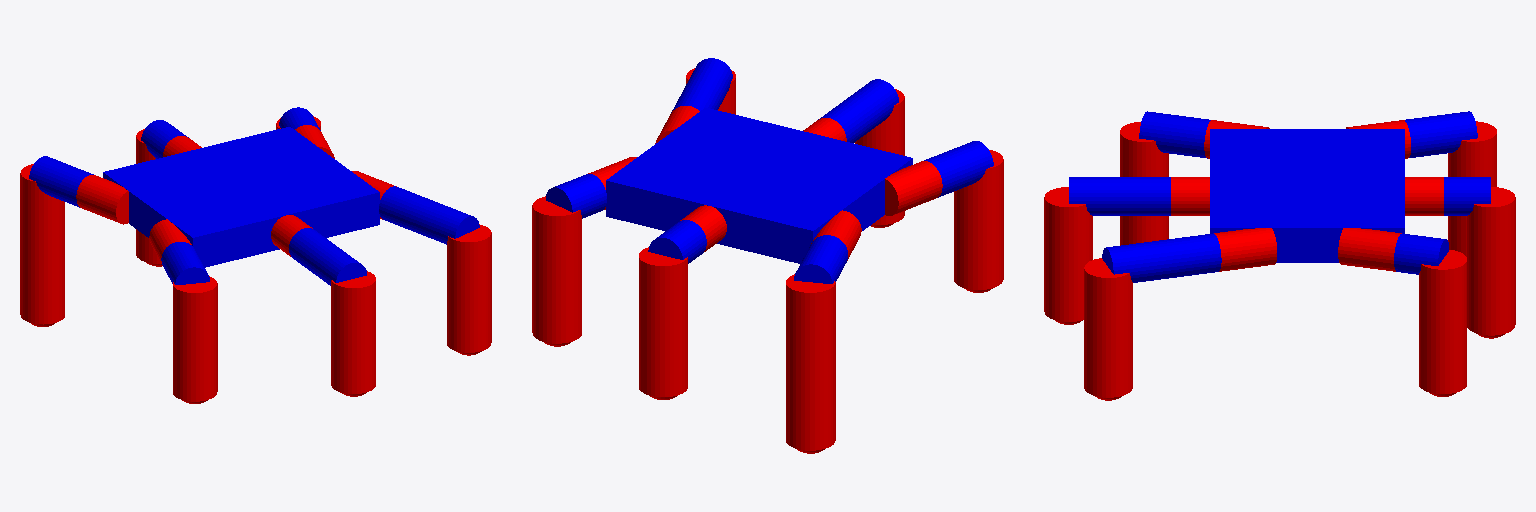
--- Render facts (derived) ---
Views: 3 orthographic renders of the robot side by side, from view 1: azimuth 30°, elevation 25°; view 2: azimuth 150°, elevation 25°; view 3: azimuth 270°, elevation 25°.
Robot: pexod — 19 links, 18 joints (18 revolute); root link base_link; default pose: all joints at 0.
Links seen in each view (by area): view 1: base_link, leg_0_3, leg_3_3, leg_5_3, leg_4_3, leg_3_2, leg_4_2, leg_0_1, leg_0_2, leg_5_2, leg_1_2, leg_1_3 (+3 smaller); view 2: base_link, leg_0_3, leg_1_3, leg_2_3, leg_5_3, leg_4_2, leg_5_1, leg_5_2, leg_3_2, leg_0_2, leg_2_2, leg_4_3 (+5 smaller); view 3: base_link, leg_1_3, leg_2_3, leg_3_3, leg_4_3, leg_3_2, leg_4_2, leg_5_3, leg_0_3, leg_0_2, leg_5_2, leg_2_1 (+5 smaller).
Link boxes in pixels (x1,y1,x2,y2): base_link: (103, 127, 379, 267); leg_0_3: (20, 164, 64, 326); leg_3_3: (447, 224, 491, 355); leg_5_3: (173, 276, 217, 403); leg_4_3: (331, 271, 375, 396); leg_3_2: (379, 186, 479, 244); leg_4_2: (289, 228, 366, 285); leg_0_1: (76, 175, 128, 224); leg_0_2: (29, 156, 93, 207); leg_5_2: (161, 242, 209, 284); leg_1_2: (141, 120, 188, 158); leg_1_3: (136, 129, 162, 266); base_link: (606, 108, 912, 263); leg_0_3: (786, 274, 835, 453); leg_1_3: (639, 247, 687, 399); leg_2_3: (532, 196, 581, 346); leg_5_3: (954, 150, 1003, 292); leg_4_2: (818, 79, 898, 142); leg_5_1: (885, 161, 942, 215); leg_5_2: (924, 141, 993, 197); leg_3_2: (671, 58, 732, 112); leg_0_2: (794, 235, 847, 283); leg_2_2: (546, 174, 606, 218); leg_4_3: (855, 89, 904, 227); base_link: (1210, 129, 1404, 262); leg_1_3: (1467, 187, 1515, 338); leg_2_3: (1419, 250, 1466, 396); leg_3_3: (1084, 258, 1132, 400); leg_4_3: (1044, 187, 1092, 324); leg_3_2: (1102, 233, 1221, 282); leg_4_2: (1069, 177, 1170, 215); leg_5_3: (1120, 122, 1168, 245); leg_0_3: (1448, 121, 1496, 256); leg_0_2: (1405, 111, 1477, 157); leg_5_2: (1139, 111, 1210, 158); leg_2_1: (1338, 228, 1401, 271).
Size in the robot's own frame: 0.3806 by 0.4832 by 0.207 metres.
Geometry: primitives only (box / cylinder / sphere), no mesh files.

robot.urdf — pexod:
<?xml version="1.0" ?>
<!-- =================================================================================== -->
<!-- |    This document was autogenerated by xacro from pexod.xacro                    | -->
<!-- |    EDITING THIS FILE BY HAND IS NOT RECOMMENDED                                 | -->
<!-- =================================================================================== -->
<robot name="pexod" xmlns:xacro="http://www.ros.org/wiki/xacro">
  <!-- <xacro:include filename="$(find pexod_description)/urdf/pexod_control.xacro" /> -->
  <!-- MATERIALS -->
  <material name="Blue">
    <color rgba="0 0 1 1"/>
  </material>
  <material name="Red">
    <color rgba="1 0 0 1"/>
  </material>
  <material name="Green">
    <color rgba="0 1 0 1"/>
  </material>
  <material name="Yellow">
    <color rgba="1 1 0 1"/>
  </material>
  <material name="LightGrey">
    <color rgba="0.6 0.6 0.6 1.0"/>
  </material>
  <!-- END OF MATERIALS -->
  <!-- XACRO MACROS FOR VISUALS AND COLLISIONS -->
  <!-- END OF XACRO MACROS -->
  <!-- TORSO -->
  <link name="base_link">
    <visual>
      <origin rpy="0 0 0" xyz="0 0 0"/>
      <geometry>
        <box size="0.24 0.2 0.04"/>
      </geometry>
      <material name="Blue"/>
    </visual>
    <collision>
      <origin rpy="0 0 0" xyz="0 0 0"/>
      <geometry>
        <box size="0.24 0.2 0.04"/>
      </geometry>
    </collision>
    <inertial>
      <!-- CENTER OF MASS -->
      <origin rpy="0 0 0" xyz="0 0 0"/>
      <mass value="1.031"/>
      <!-- box inertia: 1/12*m(y^2+z^2), ... -->
      <inertia ixx="0.00357413333333" ixy="0" ixz="0" iyy="0.00508626666667" iyz="0" izz="0.00838546666667"/>
    </inertial>
  </link>
  <!-- XACRO MACRO FOR LEGS LINKS/JOINTS -->
  <!-- END OF LEG LINKS/JOINTS -->
  <joint name="body_leg_2" type="revolute">
    <parent link="base_link"/>
    <child link="leg_2_1"/>
    <limit effort="30.0" lower="-1.57079632679" upper="1.57079632679" velocity="7.0"/>
    <origin rpy="0 0 -0.3" xyz="0.11 0.04 0"/>
    <!-- <xacro:if value="${index == 5 or index == 4 or index == 3}">
                <axis xyz="0 0 1"/>
            </xacro:if>
            <xacro:if value="${index == 2 or index == 1 or index == 0}"> -->
    <axis xyz="0 0 1"/>
    <!-- </xacro:if> -->
    <dynamics damping="0.0"/>
  </joint>
  <link name="leg_2_1">
    <visual>
      <origin rpy="1.57079632679 0 0" xyz="0.01 0.03 0"/>
      <geometry>
        <cylinder length="0.06" radius="0.02"/>
      </geometry>
      <material name="Red"/>
    </visual>
    <collision>
      <origin rpy="1.57079632679 0 0" xyz="0.01 0.03 0"/>
      <geometry>
        <box size="0.02 0.02 0.06"/>
      </geometry>
    </collision>
    <inertial>
      <!-- CENTER OF MASS -->
      <origin rpy="1.57079632679 0 0" xyz="0.01 0.03 0"/>
      <mass value="0.02"/>
      <!-- box inertia: 1/12*m(y^2+z^2), ... -->
      <inertia ixx="6.66666666667e-06" ixy="0" ixz="0" iyy="6.66666666667e-06" iyz="0" izz="1.33333333333e-06"/>
    </inertial>
  </link>
  <joint name="leg_2_1_2" type="revolute">
    <parent link="leg_2_1"/>
    <child link="leg_2_2"/>
    <limit effort="30.0" lower="-0.78539816339" upper="0.78539816339" velocity="7.0"/>
    <origin rpy="0 0 0" xyz="0 0.06 0"/>
    <axis xyz="1 0 0"/>
    <dynamics damping="0.0"/>
  </joint>
  <link name="leg_2_2">
    <visual>
      <origin rpy="1.57079632679 0 0" xyz="0.01 0.0235877425869 0"/>
      <geometry>
        <cylinder length="0.0471754851738" radius="0.02"/>
      </geometry>
      <material name="Blue"/>
    </visual>
    <collision>
      <origin rpy="1.57079632679 0 0" xyz="0.01 0.0235877425869 0"/>
      <geometry>
        <box size="0.02 0.02 0.0471754851738"/>
      </geometry>
    </collision>
    <inertial>
      <!-- CENTER OF MASS -->
      <origin rpy="1.57079632679 0 0" xyz="0.01 0.0235877425869 0"/>
      <mass value="0.184"/>
      <!-- box inertia: 1/12*m(y^2+z^2), ... -->
      <inertia ixx="4.02580714879e-05" ixy="0" ixz="0" iyy="4.02580714879e-05" iyz="0" izz="1.22666666667e-05"/>
    </inertial>
  </link>
  <joint name="leg_2_2_3" type="revolute">
    <parent link="leg_2_2"/>
    <child link="leg_2_3"/>
    <limit effort="30.0" lower="-0.78539816339" upper="0.78539816339" velocity="7.0"/>
    <origin rpy="-1.57079632679 0 0" xyz="0 0.0471754851738 0"/>
    <axis xyz="-1 0 0"/>
    <dynamics damping="0.0"/>
  </joint>
  <link name="leg_2_3">
    <visual>
      <origin rpy="1.57079632679 0 0" xyz="0.0125 0.070470792549 0"/>
      <geometry>
        <cylinder length="0.140941585098" radius="0.025"/>
      </geometry>
      <material name="Red"/>
    </visual>
    <visual>
      <origin rpy="1.57079632679 0 0" xyz="0.0125 0.128441585098 0"/>
      <geometry>
        <sphere radius="0.025"/>
      </geometry>
      <material name="Red"/>
    </visual>
    <collision>
      <origin rpy="1.57079632679 0 0" xyz="0.0125 0.070470792549 0"/>
      <geometry>
        <box size="0.025 0.025 0.140941585098"/>
      </geometry>
    </collision>
    <collision>
      <origin rpy="1.57079632679 0 0" xyz="0.0125 0.128441585098 0"/>
      <geometry>
        <sphere radius="0.025"/>
      </geometry>
      <material name="Red"/>
    </collision>
    <inertial>
      <!-- CENTER OF MASS -->
      <origin rpy="1.57079632679 0 0" xyz="0.0125 0.070470792549 0"/>
      <mass value="0.04"/>
      <!-- box inertia: 1/12*m(y^2+z^2), ... -->
      <inertia ixx="6.82984346998e-05" ixy="0" ixz="0" iyy="6.82984346998e-05" iyz="0" izz="4.16666666667e-06"/>
    </inertial>
  </link>
  <joint name="body_leg_3" type="revolute">
    <parent link="base_link"/>
    <child link="leg_3_1"/>
    <limit effort="30.0" lower="-1.57079632679" upper="1.57079632679" velocity="7.0"/>
    <origin rpy="0 0 0.3" xyz="0.11 -0.04 0"/>
    <!-- <xacro:if value="${index == 5 or index == 4 or index == 3}">
                <axis xyz="0 0 1"/>
            </xacro:if>
            <xacro:if value="${index == 2 or index == 1 or index == 0}"> -->
    <axis xyz="0 0 1"/>
    <!-- </xacro:if> -->
    <dynamics damping="0.0"/>
  </joint>
  <link name="leg_3_1">
    <visual>
      <origin rpy="1.57079632679 0 0" xyz="0.01 -0.03 0"/>
      <geometry>
        <cylinder length="0.06" radius="0.02"/>
      </geometry>
      <material name="Red"/>
    </visual>
    <collision>
      <origin rpy="1.57079632679 0 0" xyz="0.01 -0.03 0"/>
      <geometry>
        <box size="0.02 0.02 0.06"/>
      </geometry>
    </collision>
    <inertial>
      <!-- CENTER OF MASS -->
      <origin rpy="1.57079632679 0 0" xyz="0.01 -0.03 0"/>
      <mass value="0.02"/>
      <!-- box inertia: 1/12*m(y^2+z^2), ... -->
      <inertia ixx="6.66666666667e-06" ixy="0" ixz="0" iyy="6.66666666667e-06" iyz="0" izz="1.33333333333e-06"/>
    </inertial>
  </link>
  <joint name="leg_3_1_2" type="revolute">
    <parent link="leg_3_1"/>
    <child link="leg_3_2"/>
    <limit effort="30.0" lower="-0.78539816339" upper="0.78539816339" velocity="7.0"/>
    <origin rpy="0 0 0" xyz="0 -0.06 0"/>
    <axis xyz="-1 0 0"/>
    <dynamics damping="0.0"/>
  </joint>
  <link name="leg_3_2">
    <visual>
      <origin rpy="1.57079632679 0 0" xyz="0.01 -0.057909137465 0"/>
      <geometry>
        <cylinder length="0.11581827493" radius="0.02"/>
      </geometry>
      <material name="Blue"/>
    </visual>
    <collision>
      <origin rpy="1.57079632679 0 0" xyz="0.01 -0.057909137465 0"/>
      <geometry>
        <box size="0.02 0.02 0.11581827493"/>
      </geometry>
    </collision>
    <inertial>
      <!-- CENTER OF MASS -->
      <origin rpy="1.57079632679 0 0" xyz="0.01 -0.057909137465 0"/>
      <mass value="0.184"/>
      <!-- box inertia: 1/12*m(y^2+z^2), ... -->
      <inertia ixx="0.000211812716386" ixy="0" ixz="0" iyy="0.000211812716386" iyz="0" izz="1.22666666667e-05"/>
    </inertial>
  </link>
  <joint name="leg_3_2_3" type="revolute">
    <parent link="leg_3_2"/>
    <child link="leg_3_3"/>
    <limit effort="30.0" lower="-0.78539816339" upper="0.78539816339" velocity="7.0"/>
    <origin rpy="1.57079632679 0 0" xyz="0 -0.11581827493 0"/>
    <axis xyz="1 0 0"/>
    <dynamics damping="0.0"/>
  </joint>
  <link name="leg_3_3">
    <visual>
      <origin rpy="1.57079632679 0 0" xyz="0.0125 -0.0677245151205 0"/>
      <geometry>
        <cylinder length="0.135449030241" radius="0.025"/>
      </geometry>
      <material name="Red"/>
    </visual>
    <visual>
      <origin rpy="1.57079632679 0 0" xyz="0.0125 -0.122949030241 0"/>
      <geometry>
        <sphere radius="0.025"/>
      </geometry>
      <material name="Red"/>
    </visual>
    <collision>
      <origin rpy="1.57079632679 0 0" xyz="0.0125 -0.0677245151205 0"/>
      <geometry>
        <box size="0.025 0.025 0.135449030241"/>
      </geometry>
    </collision>
    <collision>
      <origin rpy="1.57079632679 0 0" xyz="0.0125 -0.122949030241 0"/>
      <geometry>
        <sphere radius="0.025"/>
      </geometry>
      <material name="Red"/>
    </collision>
    <inertial>
      <!-- CENTER OF MASS -->
      <origin rpy="1.57079632679 0 0" xyz="0.0125 -0.0677245151205 0"/>
      <mass value="0.04"/>
      <!-- box inertia: 1/12*m(y^2+z^2), ... -->
      <inertia ixx="6.32381326441e-05" ixy="0" ixz="0" iyy="6.32381326441e-05" iyz="0" izz="4.16666666667e-06"/>
    </inertial>
  </link>
  <joint name="body_leg_0" type="revolute">
    <parent link="base_link"/>
    <child link="leg_0_1"/>
    <limit effort="30.0" lower="-1.57079632679" upper="1.57079632679" velocity="7.0"/>
    <origin rpy="0 0 0.3" xyz="-0.13 0.04 0"/>
    <!-- <xacro:if value="${index == 5 or index == 4 or index == 3}">
                <axis xyz="0 0 1"/>
            </xacro:if>
            <xacro:if value="${index == 2 or index == 1 or index == 0}"> -->
    <axis xyz="0 0 1"/>
    <!-- </xacro:if> -->
    <dynamics damping="0.0"/>
  </joint>
  <link name="leg_0_1">
    <visual>
      <origin rpy="1.57079632679 0 0" xyz="0.01 0.03 0"/>
      <geometry>
        <cylinder length="0.06" radius="0.02"/>
      </geometry>
      <material name="Red"/>
    </visual>
    <collision>
      <origin rpy="1.57079632679 0 0" xyz="0.01 0.03 0"/>
      <geometry>
        <box size="0.02 0.02 0.06"/>
      </geometry>
    </collision>
    <inertial>
      <!-- CENTER OF MASS -->
      <origin rpy="1.57079632679 0 0" xyz="0.01 0.03 0"/>
      <mass value="0.02"/>
      <!-- box inertia: 1/12*m(y^2+z^2), ... -->
      <inertia ixx="6.66666666667e-06" ixy="0" ixz="0" iyy="6.66666666667e-06" iyz="0" izz="1.33333333333e-06"/>
    </inertial>
  </link>
  <joint name="leg_0_1_2" type="revolute">
    <parent link="leg_0_1"/>
    <child link="leg_0_2"/>
    <limit effort="30.0" lower="-0.78539816339" upper="0.78539816339" velocity="7.0"/>
    <origin rpy="0 0 0" xyz="0 0.06 0"/>
    <axis xyz="1 0 0"/>
    <dynamics damping="0.0"/>
  </joint>
  <link name="leg_0_2">
    <visual>
      <origin rpy="1.57079632679 0 0" xyz="0.01 0.0356929033093 0"/>
      <geometry>
        <cylinder length="0.0713858066186" radius="0.02"/>
      </geometry>
      <material name="Blue"/>
    </visual>
    <collision>
      <origin rpy="1.57079632679 0 0" xyz="0.01 0.0356929033093 0"/>
      <geometry>
        <box size="0.02 0.02 0.0713858066186"/>
      </geometry>
    </collision>
    <inertial>
      <!-- CENTER OF MASS -->
      <origin rpy="1.57079632679 0 0" xyz="0.01 0.0356929033093 0"/>
      <mass value="0.184"/>
      <!-- box inertia: 1/12*m(y^2+z^2), ... -->
      <inertia ixx="8.42709785944e-05" ixy="0" ixz="0" iyy="8.42709785944e-05" iyz="0" izz="1.22666666667e-05"/>
    </inertial>
  </link>
  <joint name="leg_0_2_3" type="revolute">
    <parent link="leg_0_2"/>
    <child link="leg_0_3"/>
    <limit effort="30.0" lower="-0.78539816339" upper="0.78539816339" velocity="7.0"/>
    <origin rpy="-1.57079632679 0 0" xyz="0 0.0713858066186 0"/>
    <axis xyz="-1 0 0"/>
    <dynamics damping="0.0"/>
  </joint>
  <link name="leg_0_3">
    <visual>
      <origin rpy="1.57079632679 0 0" xyz="0.0125 0.0872538673915 0"/>
      <geometry>
        <cylinder length="0.174507734783" radius="0.025"/>
      </geometry>
      <material name="Red"/>
    </visual>
    <visual>
      <origin rpy="1.57079632679 0 0" xyz="0.0125 0.162007734783 0"/>
      <geometry>
        <sphere radius="0.025"/>
      </geometry>
      <material name="Red"/>
    </visual>
    <collision>
      <origin rpy="1.57079632679 0 0" xyz="0.0125 0.0872538673915 0"/>
      <geometry>
        <box size="0.025 0.025 0.174507734783"/>
      </geometry>
    </collision>
    <collision>
      <origin rpy="1.57079632679 0 0" xyz="0.0125 0.162007734783 0"/>
      <geometry>
        <sphere radius="0.025"/>
      </geometry>
      <material name="Red"/>
    </collision>
    <inertial>
      <!-- CENTER OF MASS -->
      <origin rpy="1.57079632679 0 0" xyz="0.0125 0.0872538673915 0"/>
      <mass value="0.04"/>
      <!-- box inertia: 1/12*m(y^2+z^2), ... -->
      <inertia ixx="0.000103593164997" ixy="0" ixz="0" iyy="0.000103593164997" iyz="0" izz="4.16666666667e-06"/>
    </inertial>
  </link>
  <joint name="body_leg_5" type="revolute">
    <parent link="base_link"/>
    <child link="leg_5_1"/>
    <limit effort="30.0" lower="-1.57079632679" upper="1.57079632679" velocity="7.0"/>
    <origin rpy="0 0 -0.3" xyz="-0.13 -0.04 0"/>
    <!-- <xacro:if value="${index == 5 or index == 4 or index == 3}">
                <axis xyz="0 0 1"/>
            </xacro:if>
            <xacro:if value="${index == 2 or index == 1 or index == 0}"> -->
    <axis xyz="0 0 1"/>
    <!-- </xacro:if> -->
    <dynamics damping="0.0"/>
  </joint>
  <link name="leg_5_1">
    <visual>
      <origin rpy="1.57079632679 0 0" xyz="0.01 -0.03 0"/>
      <geometry>
        <cylinder length="0.06" radius="0.02"/>
      </geometry>
      <material name="Red"/>
    </visual>
    <collision>
      <origin rpy="1.57079632679 0 0" xyz="0.01 -0.03 0"/>
      <geometry>
        <box size="0.02 0.02 0.06"/>
      </geometry>
    </collision>
    <inertial>
      <!-- CENTER OF MASS -->
      <origin rpy="1.57079632679 0 0" xyz="0.01 -0.03 0"/>
      <mass value="0.02"/>
      <!-- box inertia: 1/12*m(y^2+z^2), ... -->
      <inertia ixx="6.66666666667e-06" ixy="0" ixz="0" iyy="6.66666666667e-06" iyz="0" izz="1.33333333333e-06"/>
    </inertial>
  </link>
  <joint name="leg_5_1_2" type="revolute">
    <parent link="leg_5_1"/>
    <child link="leg_5_2"/>
    <limit effort="30.0" lower="-0.78539816339" upper="0.78539816339" velocity="7.0"/>
    <origin rpy="0 0 0" xyz="0 -0.06 0"/>
    <axis xyz="-1 0 0"/>
    <dynamics damping="0.0"/>
  </joint>
  <link name="leg_5_2">
    <visual>
      <origin rpy="1.57079632679 0 0" xyz="0.01 -0.0349434887825 0"/>
      <geometry>
        <cylinder length="0.0698869775649" radius="0.02"/>
      </geometry>
      <material name="Blue"/>
    </visual>
    <collision>
      <origin rpy="1.57079632679 0 0" xyz="0.01 -0.0349434887825 0"/>
      <geometry>
        <box size="0.02 0.02 0.0698869775649"/>
      </geometry>
    </collision>
    <inertial>
      <!-- CENTER OF MASS -->
      <origin rpy="1.57079632679 0 0" xyz="0.01 -0.0349434887825 0"/>
      <mass value="0.184"/>
      <!-- box inertia: 1/12*m(y^2+z^2), ... -->
      <inertia ixx="8.10242410417e-05" ixy="0" ixz="0" iyy="8.10242410417e-05" iyz="0" izz="1.22666666667e-05"/>
    </inertial>
  </link>
  <joint name="leg_5_2_3" type="revolute">
    <parent link="leg_5_2"/>
    <child link="leg_5_3"/>
    <limit effort="30.0" lower="-0.78539816339" upper="0.78539816339" velocity="7.0"/>
    <origin rpy="1.57079632679 0 0" xyz="0 -0.0698869775649 0"/>
    <axis xyz="1 0 0"/>
    <dynamics damping="0.0"/>
  </joint>
  <link name="leg_5_3">
    <visual>
      <origin rpy="1.57079632679 0 0" xyz="0.0125 -0.066565529671 0"/>
      <geometry>
        <cylinder length="0.133131059342" radius="0.025"/>
      </geometry>
      <material name="Red"/>
    </visual>
    <visual>
      <origin rpy="1.57079632679 0 0" xyz="0.0125 -0.120631059342 0"/>
      <geometry>
        <sphere radius="0.025"/>
      </geometry>
      <material name="Red"/>
    </visual>
    <collision>
      <origin rpy="1.57079632679 0 0" xyz="0.0125 -0.066565529671 0"/>
      <geometry>
        <box size="0.025 0.025 0.133131059342"/>
      </geometry>
    </collision>
    <collision>
      <origin rpy="1.57079632679 0 0" xyz="0.0125 -0.120631059342 0"/>
      <geometry>
        <sphere radius="0.025"/>
      </geometry>
      <material name="Red"/>
    </collision>
    <inertial>
      <!-- CENTER OF MASS -->
      <origin rpy="1.57079632679 0 0" xyz="0.0125 -0.066565529671 0"/>
      <mass value="0.04"/>
      <!-- box inertia: 1/12*m(y^2+z^2), ... -->
      <inertia ixx="6.11629298717e-05" ixy="0" ixz="0" iyy="6.11629298717e-05" iyz="0" izz="4.16666666667e-06"/>
    </inertial>
  </link>
  <joint name="body_leg_1" type="revolute">
    <parent link="base_link"/>
    <child link="leg_1_1"/>
    <limit effort="30.0" lower="-1.57079632679" upper="1.57079632679" velocity="7.0"/>
    <origin rpy="0 0 0" xyz="-0.01 0.08 0"/>
    <!-- <xacro:if value="${index == 5 or index == 4 or index == 3}">
                <axis xyz="0 0 1"/>
            </xacro:if>
            <xacro:if value="${index == 2 or index == 1 or index == 0}"> -->
    <axis xyz="0 0 1"/>
    <!-- </xacro:if> -->
    <dynamics damping="0.0"/>
  </joint>
  <link name="leg_1_1">
    <visual>
      <origin rpy="1.57079632679 0 0" xyz="0.01 0.03 0"/>
      <geometry>
        <cylinder length="0.06" radius="0.02"/>
      </geometry>
      <material name="Red"/>
    </visual>
    <collision>
      <origin rpy="1.57079632679 0 0" xyz="0.01 0.03 0"/>
      <geometry>
        <box size="0.02 0.02 0.06"/>
      </geometry>
    </collision>
    <inertial>
      <!-- CENTER OF MASS -->
      <origin rpy="1.57079632679 0 0" xyz="0.01 0.03 0"/>
      <mass value="0.02"/>
      <!-- box inertia: 1/12*m(y^2+z^2), ... -->
      <inertia ixx="6.66666666667e-06" ixy="0" ixz="0" iyy="6.66666666667e-06" iyz="0" izz="1.33333333333e-06"/>
    </inertial>
  </link>
  <joint name="leg_1_1_2" type="revolute">
    <parent link="leg_1_1"/>
    <child link="leg_1_2"/>
    <limit effort="30.0" lower="-0.78539816339" upper="0.78539816339" velocity="7.0"/>
    <origin rpy="0 0 0" xyz="0 0.06 0"/>
    <axis xyz="1 0 0"/>
    <dynamics damping="0.0"/>
  </joint>
  <link name="leg_1_2">
    <visual>
      <origin rpy="1.57079632679 0 0" xyz="0.01 0.0240354201511 0"/>
      <geometry>
        <cylinder length="0.0480708403022" radius="0.02"/>
      </geometry>
      <material name="Blue"/>
    </visual>
    <collision>
      <origin rpy="1.57079632679 0 0" xyz="0.01 0.0240354201511 0"/>
      <geometry>
        <box size="0.02 0.02 0.0480708403022"/>
      </geometry>
    </collision>
    <inertial>
      <!-- CENTER OF MASS -->
      <origin rpy="1.57079632679 0 0" xyz="0.01 0.0240354201511 0"/>
      <mass value="0.184"/>
      <!-- box inertia: 1/12*m(y^2+z^2), ... -->
      <inertia ixx="4.15656872062e-05" ixy="0" ixz="0" iyy="4.15656872062e-05" iyz="0" izz="1.22666666667e-05"/>
    </inertial>
  </link>
  <joint name="leg_1_2_3" type="revolute">
    <parent link="leg_1_2"/>
    <child link="leg_1_3"/>
    <limit effort="30.0" lower="-0.78539816339" upper="0.78539816339" velocity="7.0"/>
    <origin rpy="-1.57079632679 0 0" xyz="0 0.0480708403022 0"/>
    <axis xyz="-1 0 0"/>
    <dynamics damping="0.0"/>
  </joint>
  <link name="leg_1_3">
    <visual>
      <origin rpy="1.57079632679 0 0" xyz="0.0125 0.0725192032495 0"/>
      <geometry>
        <cylinder length="0.145038406499" radius="0.025"/>
      </geometry>
      <material name="Red"/>
    </visual>
    <visual>
      <origin rpy="1.57079632679 0 0" xyz="0.0125 0.132538406499 0"/>
      <geometry>
        <sphere radius="0.025"/>
      </geometry>
      <material name="Red"/>
    </visual>
    <collision>
      <origin rpy="1.57079632679 0 0" xyz="0.0125 0.0725192032495 0"/>
      <geometry>
        <box size="0.025 0.025 0.145038406499"/>
      </geometry>
    </collision>
    <collision>
      <origin rpy="1.57079632679 0 0" xyz="0.0125 0.132538406499 0"/>
      <geometry>
        <sphere radius="0.025"/>
      </geometry>
      <material name="Red"/>
    </collision>
    <inertial>
      <!-- CENTER OF MASS -->
      <origin rpy="1.57079632679 0 0" xyz="0.0125 0.0725192032495 0"/>
      <mass value="0.04"/>
      <!-- box inertia: 1/12*m(y^2+z^2), ... -->
      <inertia ixx="7.22037978659e-05" ixy="0" ixz="0" iyy="7.22037978659e-05" iyz="0" izz="4.16666666667e-06"/>
    </inertial>
  </link>
  <joint name="body_leg_4" type="revolute">
    <parent link="base_link"/>
    <child link="leg_4_1"/>
    <limit effort="30.0" lower="-1.57079632679" upper="1.57079632679" velocity="7.0"/>
    <origin rpy="0 0 0" xyz="-0.01 -0.08 0"/>
    <!-- <xacro:if value="${index == 5 or index == 4 or index == 3}">
                <axis xyz="0 0 1"/>
            </xacro:if>
            <xacro:if value="${index == 2 or index == 1 or index == 0}"> -->
    <axis xyz="0 0 1"/>
    <!-- </xacro:if> -->
    <dynamics damping="0.0"/>
  </joint>
  <link name="leg_4_1">
    <visual>
      <origin rpy="1.57079632679 0 0" xyz="0.01 -0.03 0"/>
      <geometry>
        <cylinder length="0.06" radius="0.02"/>
      </geometry>
      <material name="Red"/>
    </visual>
    <collision>
      <origin rpy="1.57079632679 0 0" xyz="0.01 -0.03 0"/>
      <geometry>
        <box size="0.02 0.02 0.06"/>
      </geometry>
    </collision>
    <inertial>
      <!-- CENTER OF MASS -->
      <origin rpy="1.57079632679 0 0" xyz="0.01 -0.03 0"/>
      <mass value="0.02"/>
      <!-- box inertia: 1/12*m(y^2+z^2), ... -->
      <inertia ixx="6.66666666667e-06" ixy="0" ixz="0" iyy="6.66666666667e-06" iyz="0" izz="1.33333333333e-06"/>
    </inertial>
  </link>
  <joint name="leg_4_1_2" type="revolute">
    <parent link="leg_4_1"/>
    <child link="leg_4_2"/>
    <limit effort="30.0" lower="-0.78539816339" upper="0.78539816339" velocity="7.0"/>
    <origin rpy="0 0 0" xyz="0 -0.06 0"/>
    <axis xyz="-1 0 0"/>
    <dynamics damping="0.0"/>
  </joint>
  <link name="leg_4_2">
    <visual>
      <origin rpy="1.57079632679 0 0" xyz="0.01 -0.052555156764 0"/>
      <geometry>
        <cylinder length="0.105110313528" radius="0.02"/>
      </geometry>
      <material name="Blue"/>
    </visual>
    <collision>
      <origin rpy="1.57079632679 0 0" xyz="0.01 -0.052555156764 0"/>
      <geometry>
        <box size="0.02 0.02 0.105110313528"/>
      </geometry>
    </collision>
    <inertial>
      <!-- CENTER OF MASS -->
      <origin rpy="1.57079632679 0 0" xyz="0.01 -0.052555156764 0"/>
      <mass value="0.184"/>
      <!-- box inertia: 1/12*m(y^2+z^2), ... -->
      <inertia ixx="0.000175538729486" ixy="0" ixz="0" iyy="0.000175538729486" iyz="0" izz="1.22666666667e-05"/>
    </inertial>
  </link>
  <joint name="leg_4_2_3" type="revolute">
    <parent link="leg_4_2"/>
    <child link="leg_4_3"/>
    <limit effort="30.0" lower="-0.78539816339" upper="0.78539816339" velocity="7.0"/>
    <origin rpy="1.57079632679 0 0" xyz="0 -0.105110313528 0"/>
    <axis xyz="1 0 0"/>
    <dynamics damping="0.0"/>
  </joint>
  <link name="leg_4_3">
    <visual>
      <origin rpy="1.57079632679 0 0" xyz="0.0125 -0.0648471862855 0"/>
      <geometry>
        <cylinder length="0.129694372571" radius="0.025"/>
      </geometry>
      <material name="Red"/>
    </visual>
    <visual>
      <origin rpy="1.57079632679 0 0" xyz="0.0125 -0.117194372571 0"/>
      <geometry>
        <sphere radius="0.025"/>
      </geometry>
      <material name="Red"/>
    </visual>
    <collision>
      <origin rpy="1.57079632679 0 0" xyz="0.0125 -0.0648471862855 0"/>
      <geometry>
        <box size="0.025 0.025 0.129694372571"/>
      </geometry>
    </collision>
    <collision>
      <origin rpy="1.57079632679 0 0" xyz="0.0125 -0.117194372571 0"/>
      <geometry>
        <sphere radius="0.025"/>
      </geometry>
      <material name="Red"/>
    </collision>
    <inertial>
      <!-- CENTER OF MASS -->
      <origin rpy="1.57079632679 0 0" xyz="0.0125 -0.0648471862855 0"/>
      <mass value="0.04"/>
      <!-- box inertia: 1/12*m(y^2+z^2), ... -->
      <inertia ixx="5.8152100922e-05" ixy="0" ixz="0" iyy="5.8152100922e-05" iyz="0" izz="4.16666666667e-06"/>
    </inertial>
  </link>
  <!-- END OF LEG LINKS/JOINTS -->
</robot>
